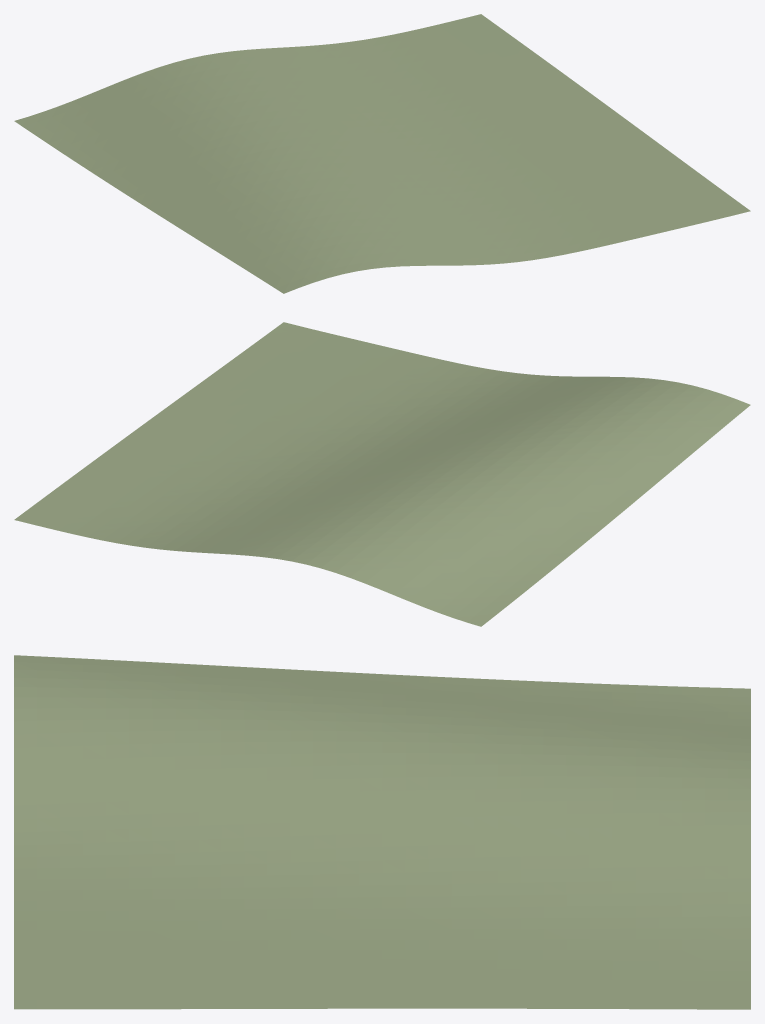
Rendered from desert-10-5.glb.
3 views of the same model, one above another, from view 1: azimuth 30°, elevation 25°; view 2: azimuth 150°, elevation 25°; view 3: azimuth 270°, elevation 25° (orthographic). The views are drawn at different scales.
Parts seen in each view (by area): view 1: desert-10-5; view 2: desert-10-5; view 3: desert-10-5.
Boxes of the visible parts, x1,y1,x2,y2 form: desert-10-5: [14, 14, 750, 293]; desert-10-5: [14, 322, 750, 626]; desert-10-5: [14, 655, 750, 1009].
Bounding box in the file's own units: 512 × 38.61 × 512.
